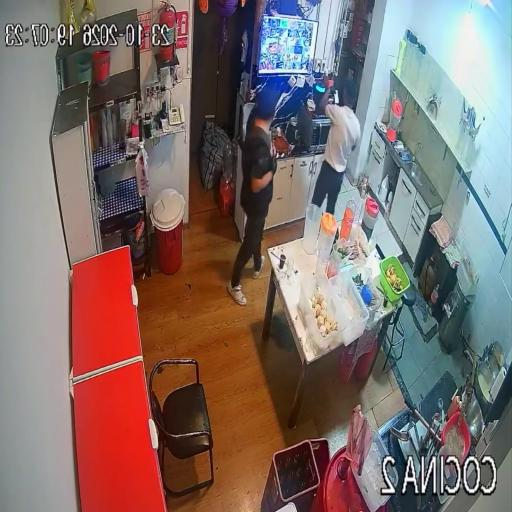Persona1: (229, 92, 277, 305)
